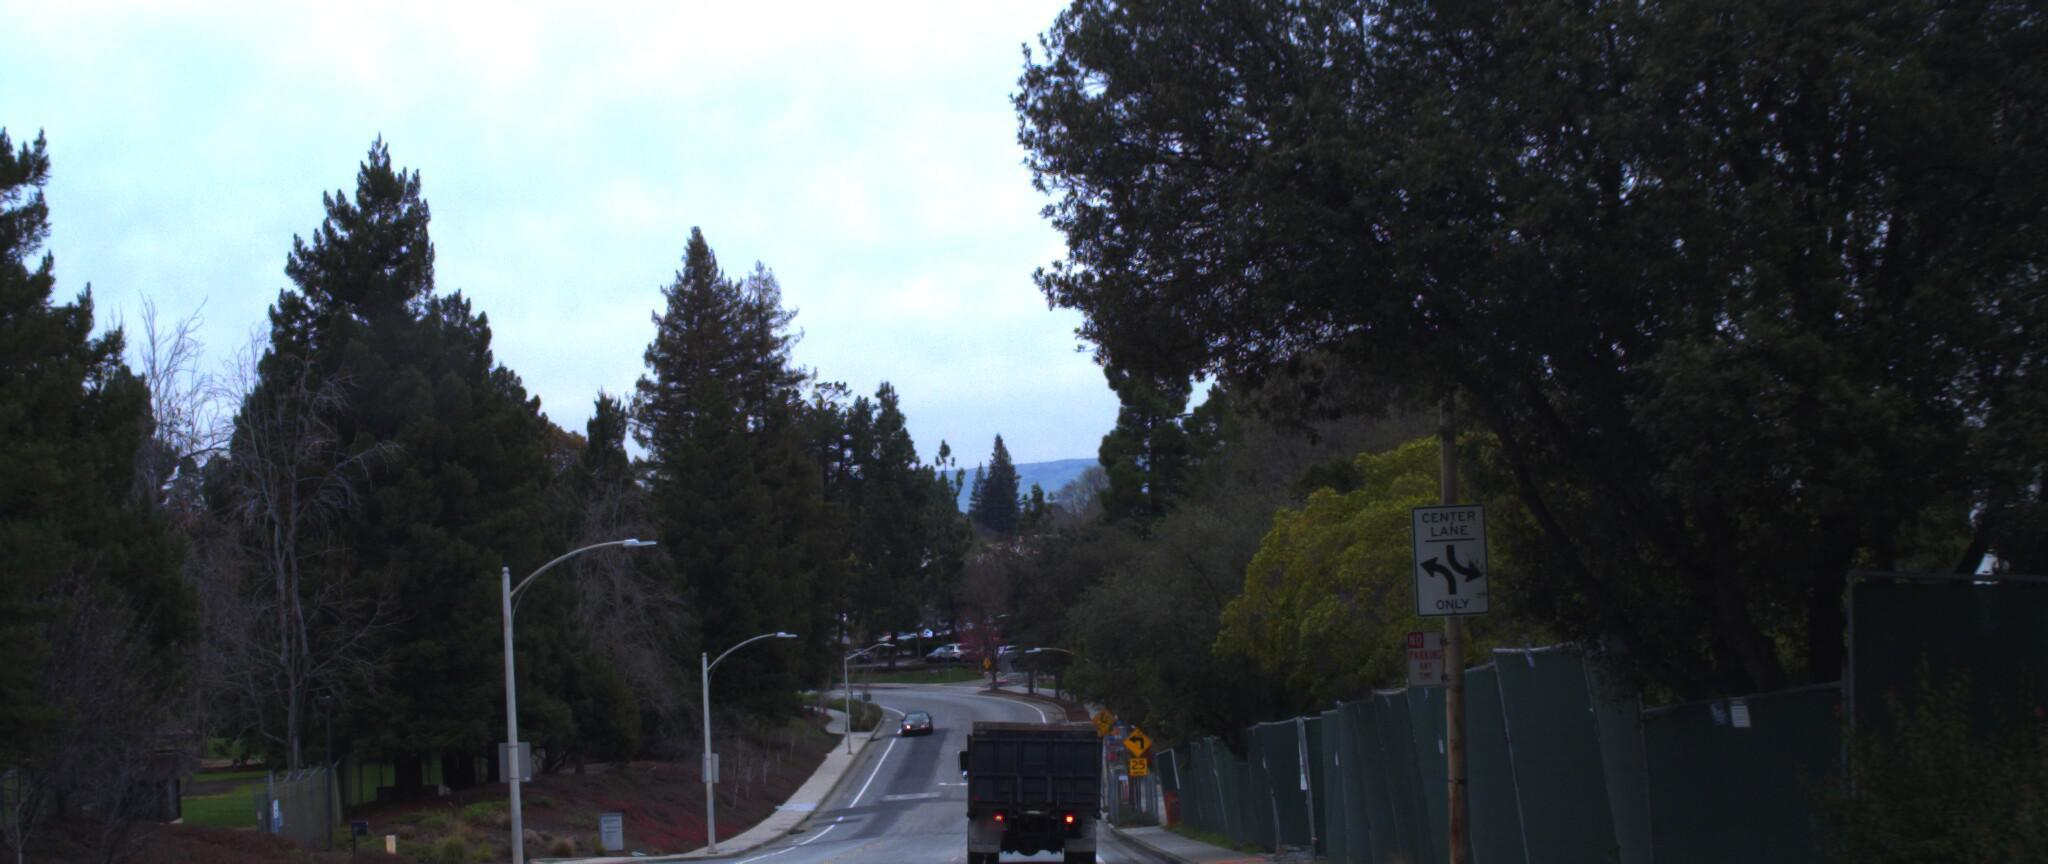truck: (946, 694, 1109, 864)
